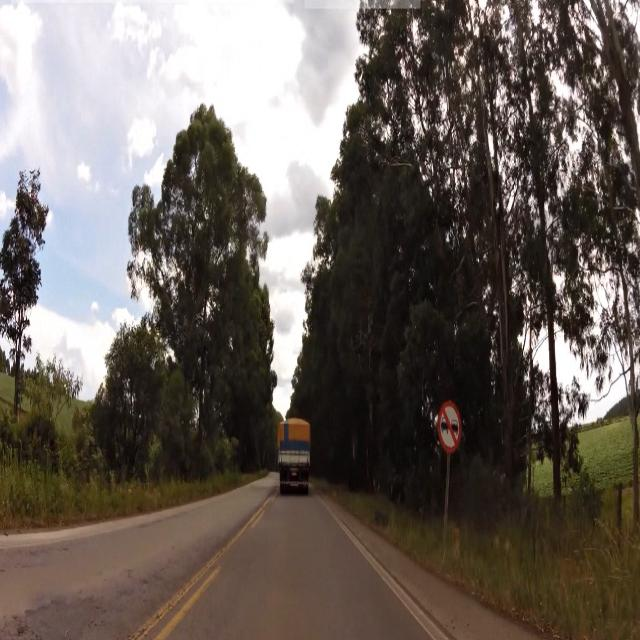R-7: (437, 399, 460, 456)
